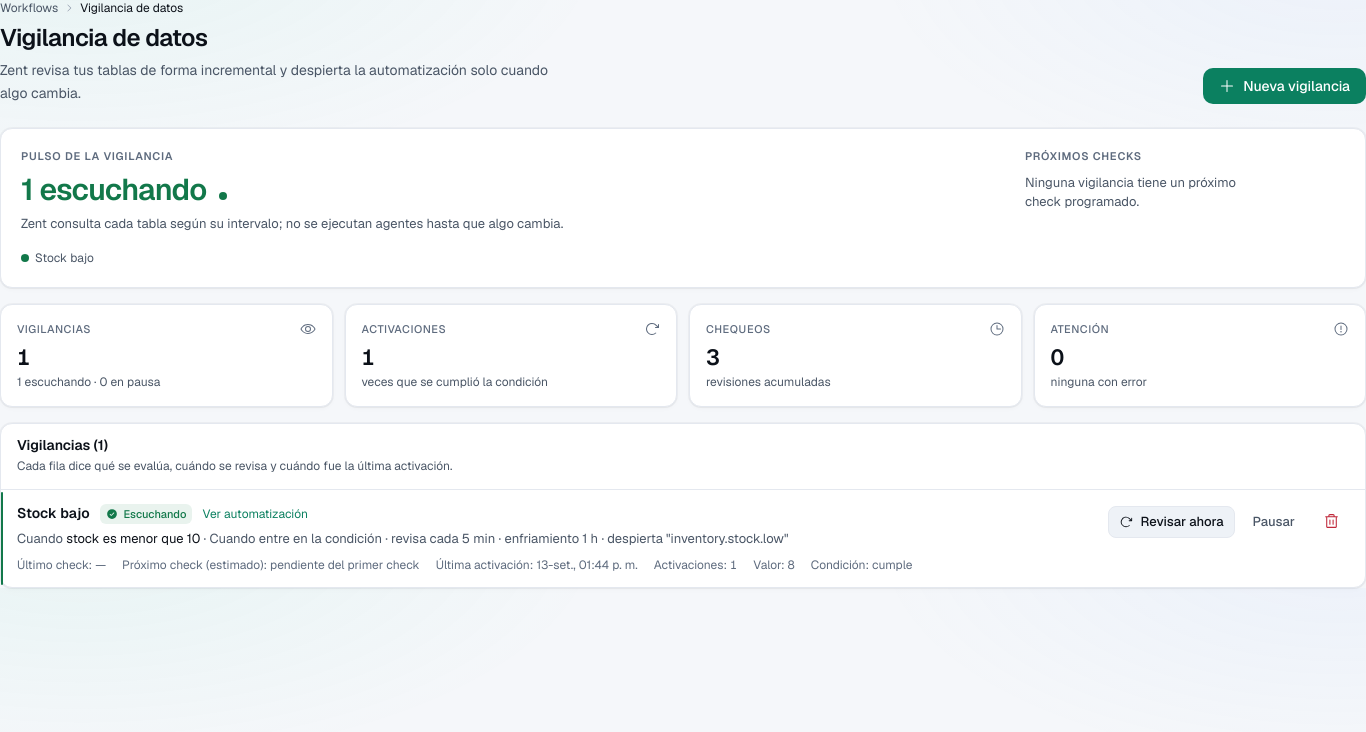
Test case: WatchersPage › abre el formulario de nueva vigilancia
Click the button with test id "watcher-new". click: coordinates (1285, 86)
box: [1203, 68, 1365, 104]
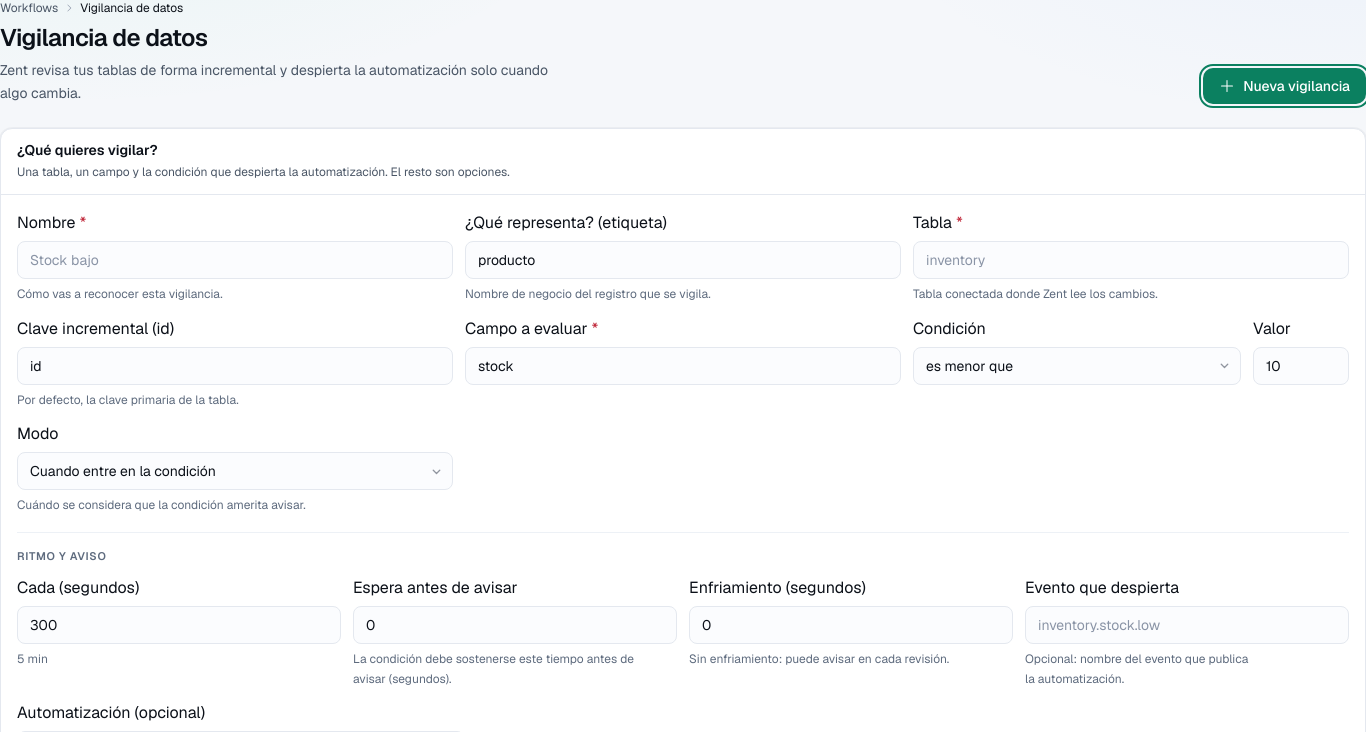
Now the field with test id "watcher-field" holds "stock", box [465, 347, 901, 385]
